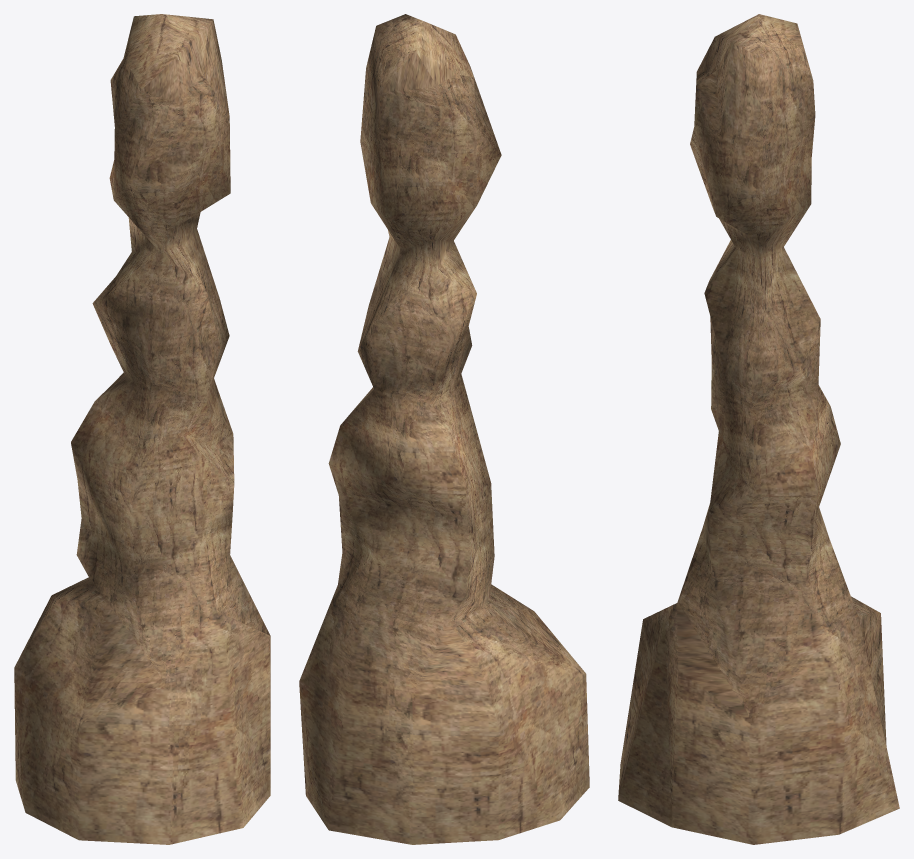
The model's file is rock_tatt_spire_lumpy_a1_l1.fbx.
3 views of the same model, side by side, from view 1: azimuth 30°, elevation 25°; view 2: azimuth 150°, elevation 25°; view 3: azimuth 270°, elevation 25° (orthographic). The views are drawn at different scales.
Parts seen in each view (by area): view 1: mesh_node; view 2: mesh_node; view 3: mesh_node.
Part boxes in pixels (x1=…): mesh_node: x1=14, y1=14, x2=270, y2=844; mesh_node: x1=299, y1=14, x2=589, y2=844; mesh_node: x1=618, y1=14, x2=899, y2=844.
Size of the model in its own units: 25.71 by 77.89 by 25.48.
Materials: 1 (1 with a texture image).
